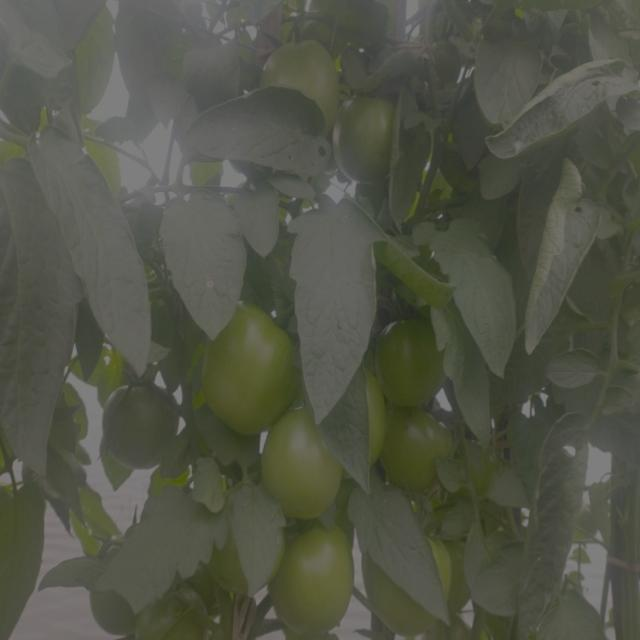tomato: (207, 309, 296, 423), (373, 525, 454, 640), (284, 525, 353, 640), (269, 413, 341, 521), (375, 314, 448, 406), (390, 410, 465, 499), (266, 38, 329, 126), (338, 98, 401, 180), (343, 378, 395, 462), (185, 45, 243, 104), (218, 536, 255, 598)
